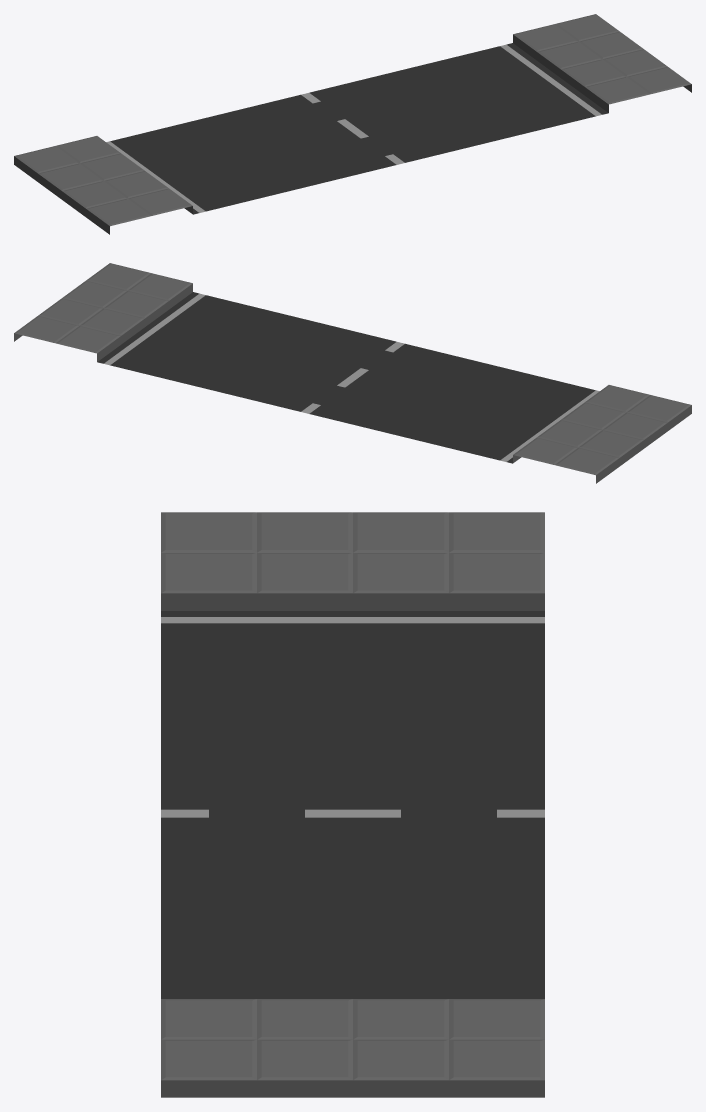
Rendered from Road x4.fbx.
3 views of the same model, one above another, from view 1: azimuth 30°, elevation 25°; view 2: azimuth 150°, elevation 25°; view 3: azimuth 270°, elevation 25° (orthographic). The views are drawn at different scales.
Visible parts, largest first — view 1: Cube; view 2: Cube; view 3: Cube.
Boxes of the visible parts, left/top/right/bottom form: Cube: left=14, top=14, right=691, bottom=234; Cube: left=14, top=263, right=691, bottom=483; Cube: left=161, top=512, right=544, bottom=1097.
Size of the model in its own units: 1400 by 21 by 400.
